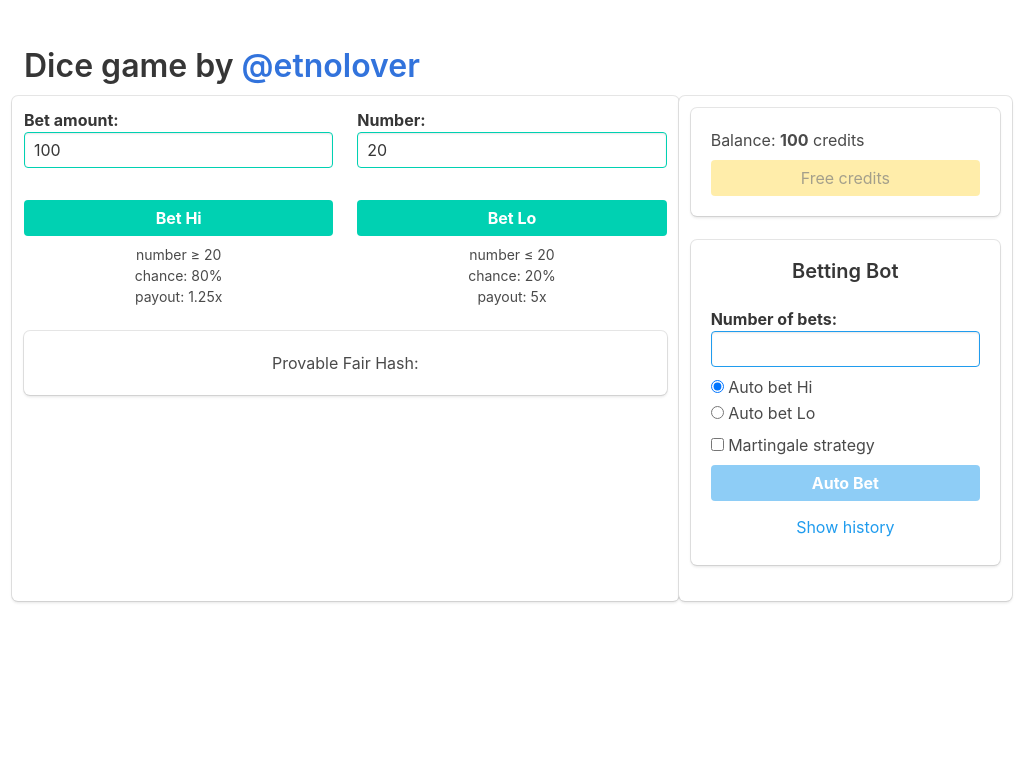
it: Board › should correctly display game result
This screenshot has width=1024, height=768.
Click the button with class "bet-type__btn" showing "Bet Hi" at [179, 218], box x1=24 y1=200 x2=333 y2=236
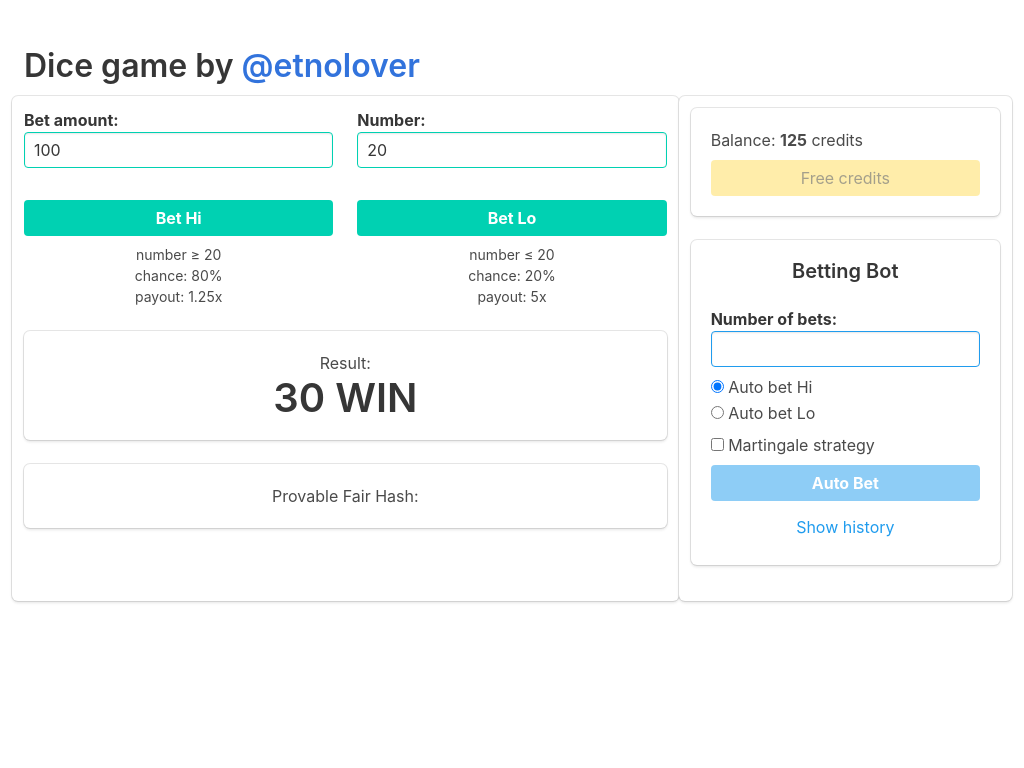
Expected: the text "30 WIN" is shown, x1=273 y1=373 x2=417 y2=422
